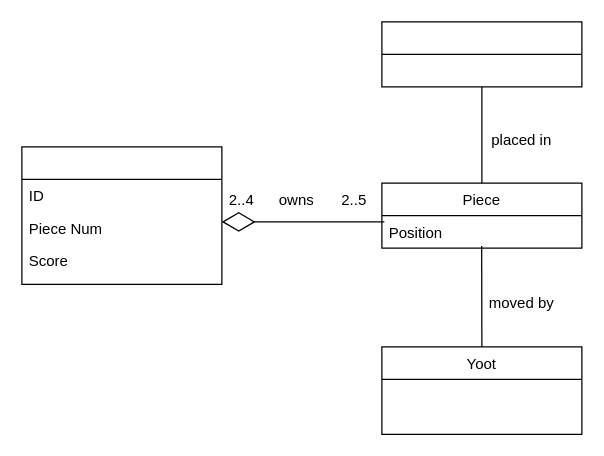
Image size: 604x456. Some labels were removed from this diagram. Each missing label, with the box of its shape:
Board: (381, 21, 582, 87)
Player: (21, 146, 222, 284)
